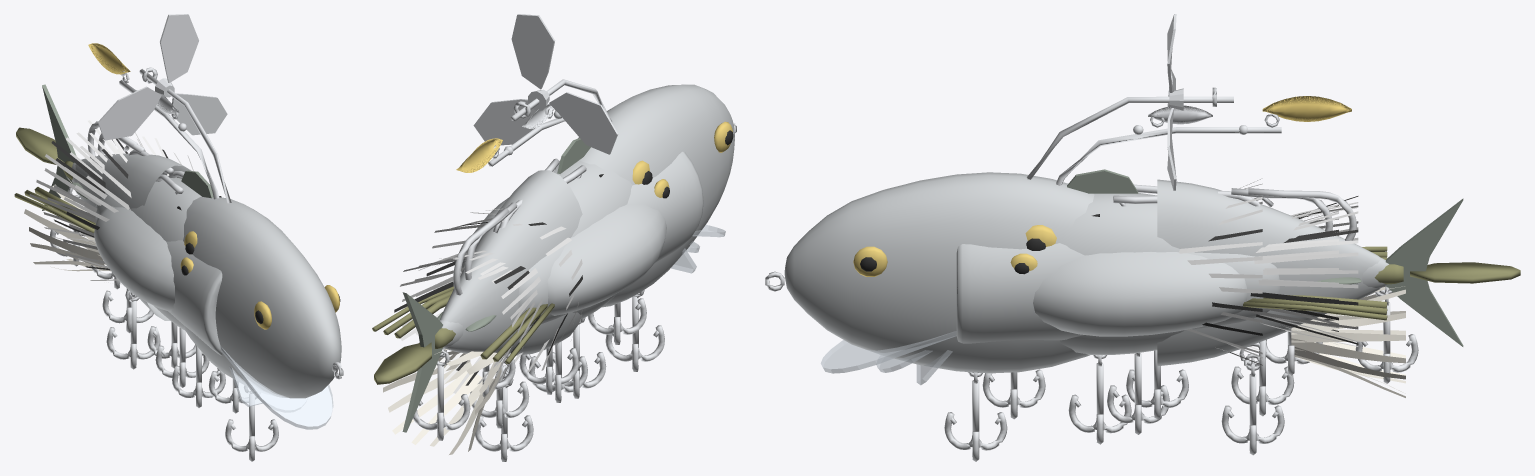
The model's file is lures.glb.
The picture shows the model from 3 angles, left to right: view 1: azimuth 30°, elevation 25°; view 2: azimuth 150°, elevation 25°; view 3: azimuth 270°, elevation 25°; orthographic projection. The views are drawn at different scales.
Visible parts, largest first — view 1: Body.009, Wings, Body.005, Body.004, Body.010, Body.002, Lip.002, SkirtCol, SkirtCol.002, SkirtCol.003, Tail, Treble1.005 (+17 smaller); view 2: Body.010, Body.009, Body.005, Wings, Body.004, SkirtCol, Body.002, Tail, SkirtCol.002, Paddle, LegStrands, Treble2.003 (+19 smaller); view 3: Body.009, Body.005, Body.010, Body.004, Body.002, SkirtCol, Tail, SkirtCol.002, Lip.002, SkirtCol.003, LegStrands.001, Paddle (+17 smaller).
Part boxes in pixels (left/top/right/bottom): Body.009: left=183, top=196, right=341, bottom=398; Wings: left=97, top=14, right=227, bottom=140; Body.005: left=94, top=206, right=174, bottom=311; Body.004: left=95, top=193, right=222, bottom=355; Body.010: left=75, top=153, right=191, bottom=320; Body.002: left=131, top=175, right=201, bottom=330; Lip.002: left=220, top=346, right=333, bottom=429; SkirtCol: left=24, top=177, right=110, bottom=271; SkirtCol.002: left=29, top=120, right=145, bottom=246; SkirtCol.003: left=63, top=136, right=193, bottom=284; Tail: left=42, top=84, right=76, bottom=210; Treble1.005: left=225, top=386, right=278, bottom=461; Body.010: left=440, top=170, right=582, bottom=355; Body.009: left=578, top=84, right=734, bottom=307; Body.005: left=461, top=197, right=666, bottom=315; Wings: left=473, top=14, right=617, bottom=154; Body.004: left=518, top=151, right=703, bottom=326; SkirtCol: left=383, top=349, right=501, bottom=454; Body.002: left=553, top=160, right=632, bottom=318; Tail: left=402, top=292, right=442, bottom=432; SkirtCol.002: left=400, top=250, right=542, bottom=393; Paddle: left=374, top=342, right=431, bottom=384; LegStrands: left=480, top=303, right=554, bottom=363; Treble2.003: left=413, top=348, right=470, bottom=440; Body.009: left=784, top=172, right=1094, bottom=373; Body.005: left=1033, top=252, right=1247, bottom=336; Body.010: left=1157, top=179, right=1381, bottom=366; Body.004: left=956, top=243, right=1279, bottom=343; Body.002: left=1060, top=193, right=1184, bottom=354; SkirtCol: left=1291, top=286, right=1405, bottom=397; Tail: left=1385, top=198, right=1463, bottom=346; SkirtCol.002: left=1250, top=202, right=1358, bottom=346; Lip.002: left=820, top=331, right=956, bottom=373; SkirtCol.003: left=1179, top=183, right=1262, bottom=360; LegStrands.001: left=1243, top=295, right=1387, bottom=320; Paddle: left=1410, top=262, right=1520, bottom=283.
Size of the model in its own units: 0.0391 by 0.1016 by 0.158.
